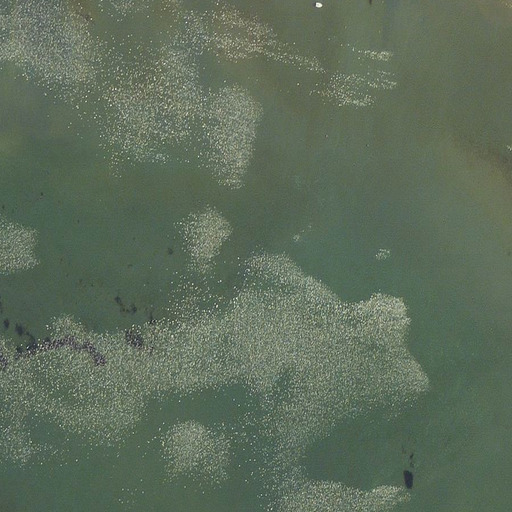ship: (314, 1, 322, 9)
